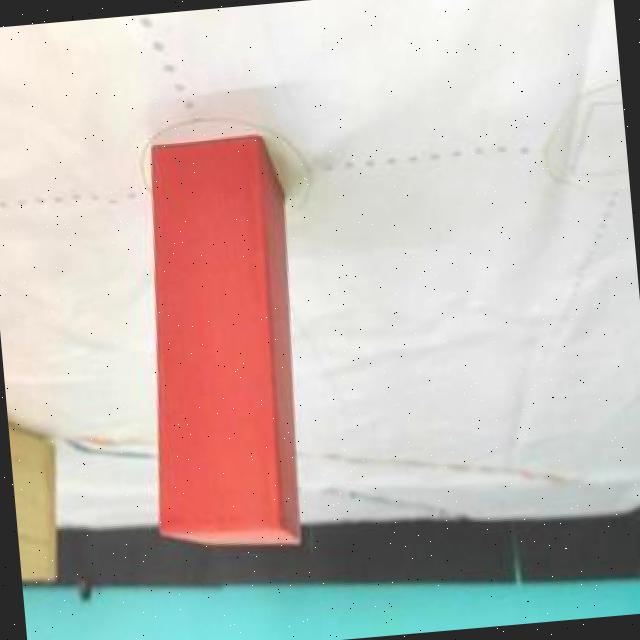redbox: (128, 137, 312, 554)
